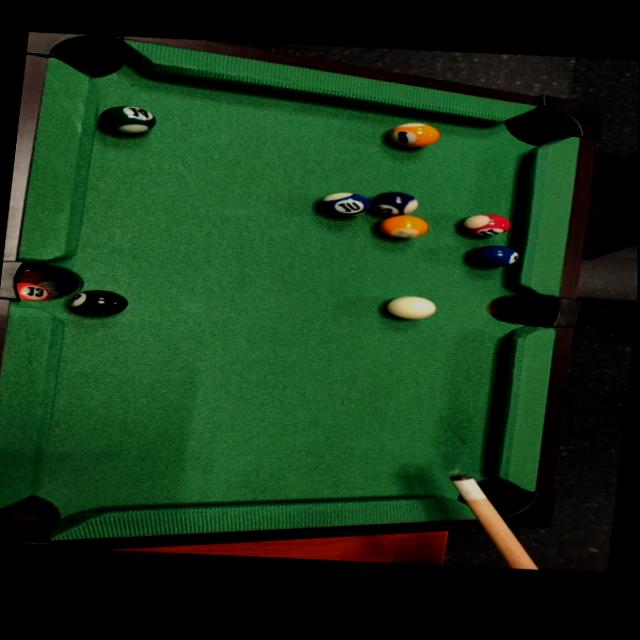cue ball: (380, 290, 442, 326)
other: (91, 98, 160, 141), (72, 284, 131, 323), (314, 184, 373, 223), (383, 115, 442, 153), (459, 206, 515, 241), (365, 186, 421, 219), (376, 209, 432, 242), (470, 238, 524, 271)
